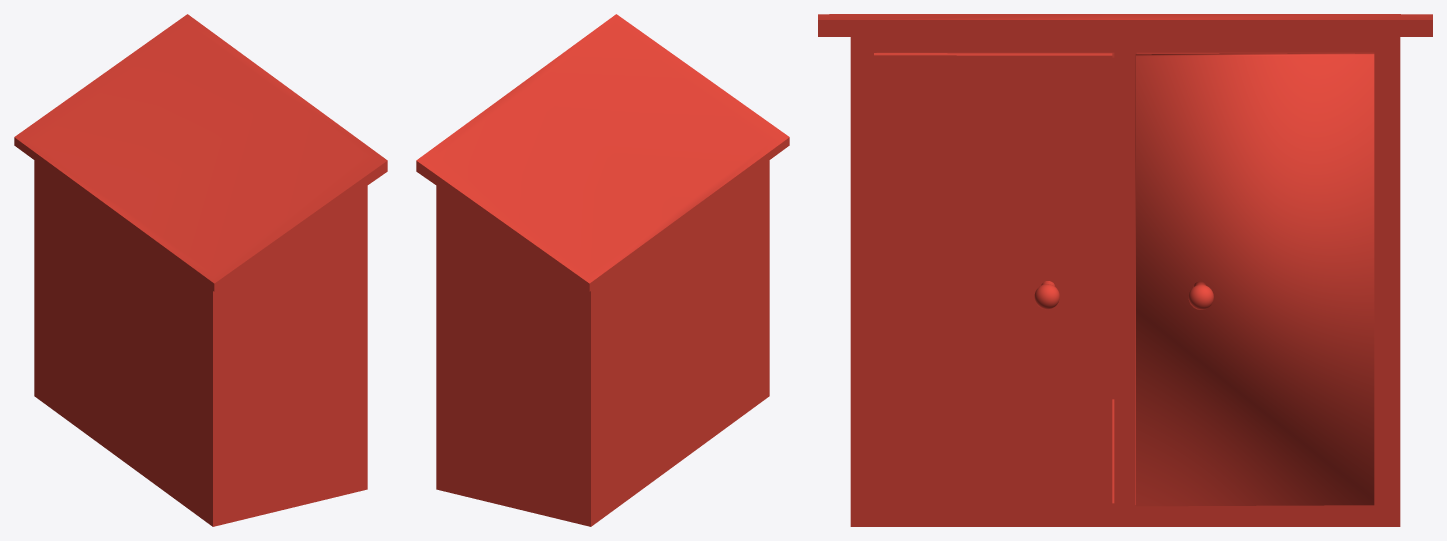
The model's file is F_Szopa.fbx.
3 views of the same model, side by side, from view 1: azimuth 30°, elevation 25°; view 2: azimuth 150°, elevation 25°; view 3: azimuth 270°, elevation 25° (orthographic). The views are drawn at different scales.
Visible parts, largest first — view 1: F_szopa; view 2: F_szopa; view 3: F_DrzwiczkiSzafyPrawe, F_DrzwiczkiSzafyLewe, F_szopa.
Boxes of the visible parts, bbox=[...] form: F_szopa: bbox=[14, 14, 387, 526]; F_szopa: bbox=[416, 14, 789, 526]; F_DrzwiczkiSzafyPrawe: bbox=[1135, 53, 1374, 506]; F_DrzwiczkiSzafyLewe: bbox=[874, 53, 1112, 505]; F_szopa: bbox=[818, 14, 1432, 526].
Bounding box in the file's own units: 183 × 310 × 336.
